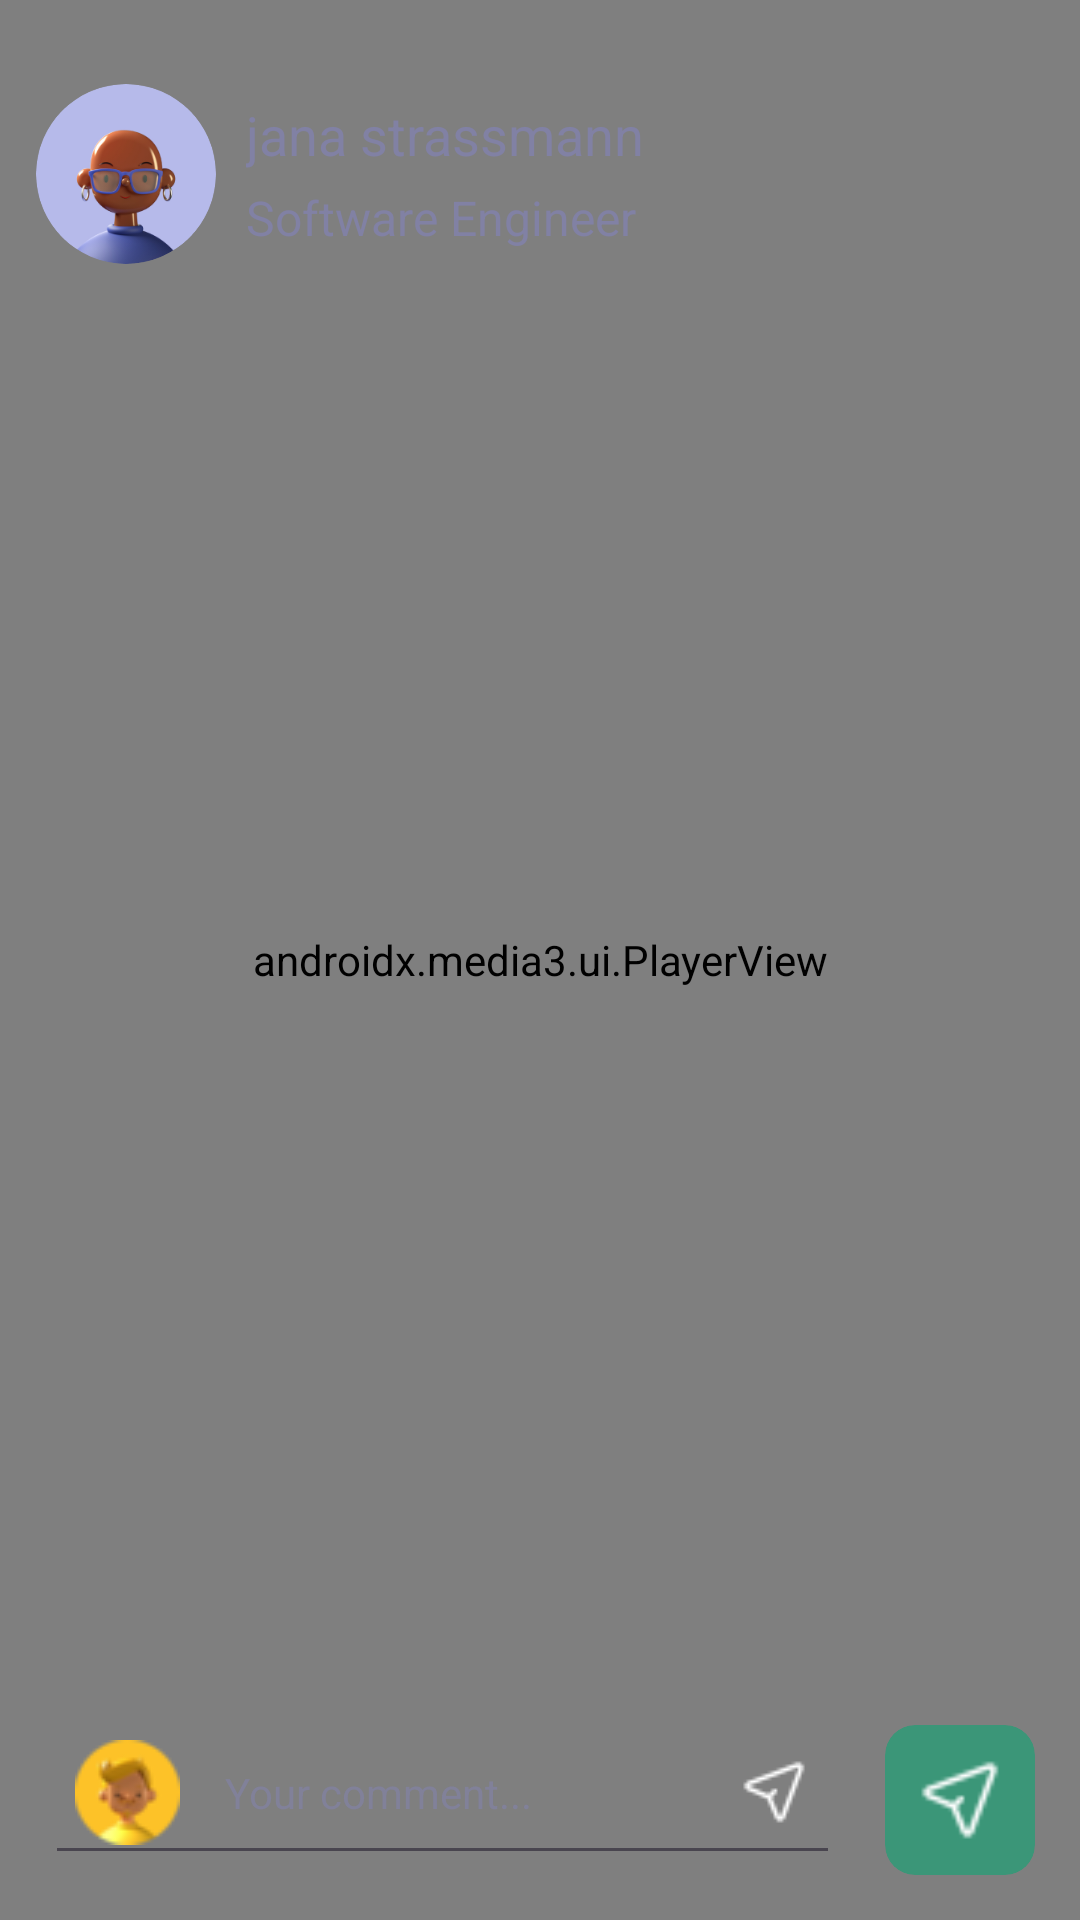

Screen size 1080 x 1920. Icon name, then its center in pixels as (x,y):
send: (960,1800)
